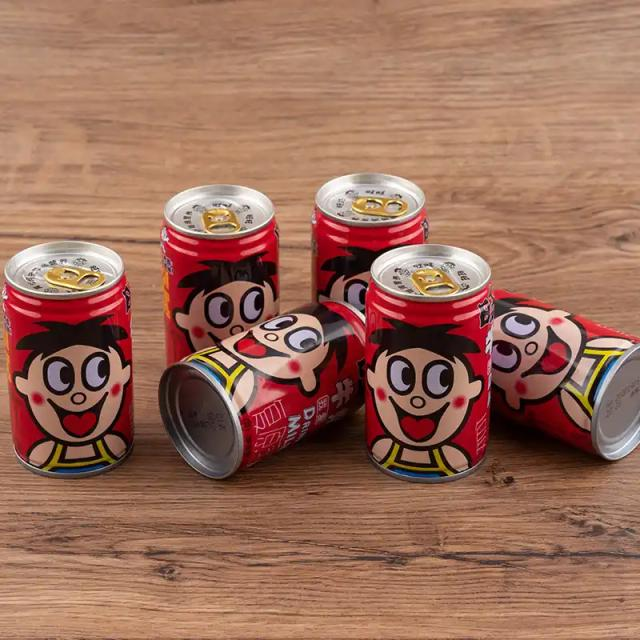can: (154, 295, 365, 480), (361, 241, 496, 487), (2, 237, 138, 479), (494, 284, 640, 464), (158, 182, 282, 364), (307, 170, 433, 300)
